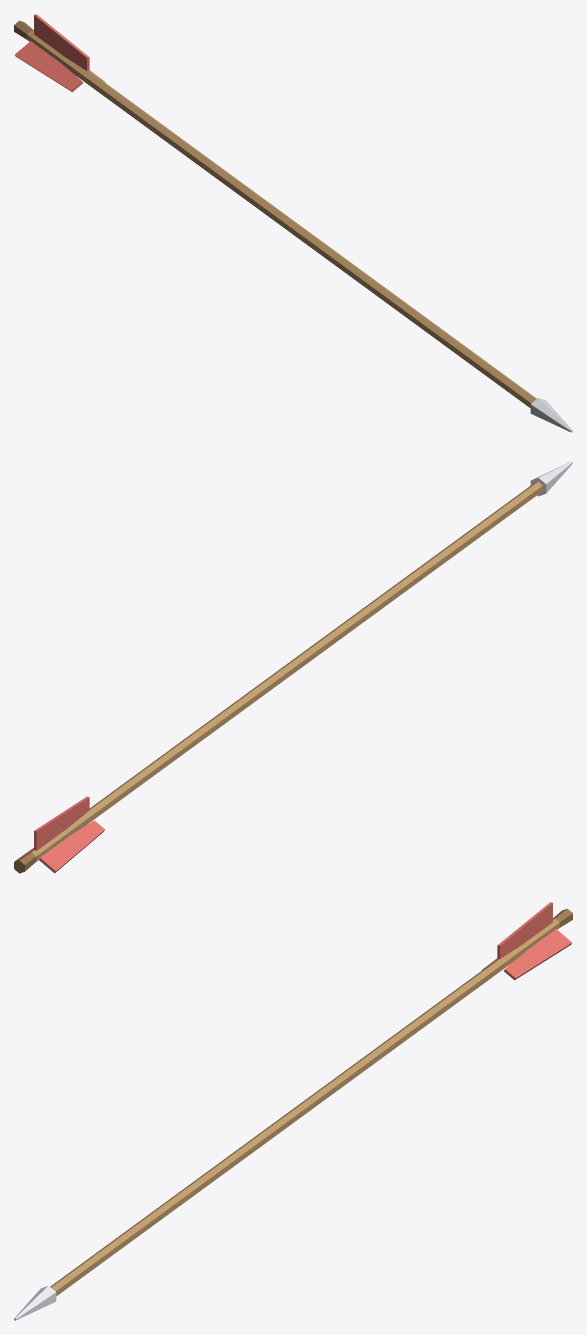
File: arrow.glb
3 views of the same model, one above another, from view 1: azimuth 30°, elevation 25°; view 2: azimuth 150°, elevation 25°; view 3: azimuth 330°, elevation 25° (orthographic).
Visible parts, largest first — view 1: Arrow; view 2: Arrow; view 3: Arrow.
Boxes of the visible parts, x1,y1,x2,y2 form: Arrow: [14, 14, 572, 432]; Arrow: [14, 461, 572, 873]; Arrow: [14, 902, 572, 1320].
Bounding box in the file's own units: 0.0394 × 0.0341 × 0.908.
